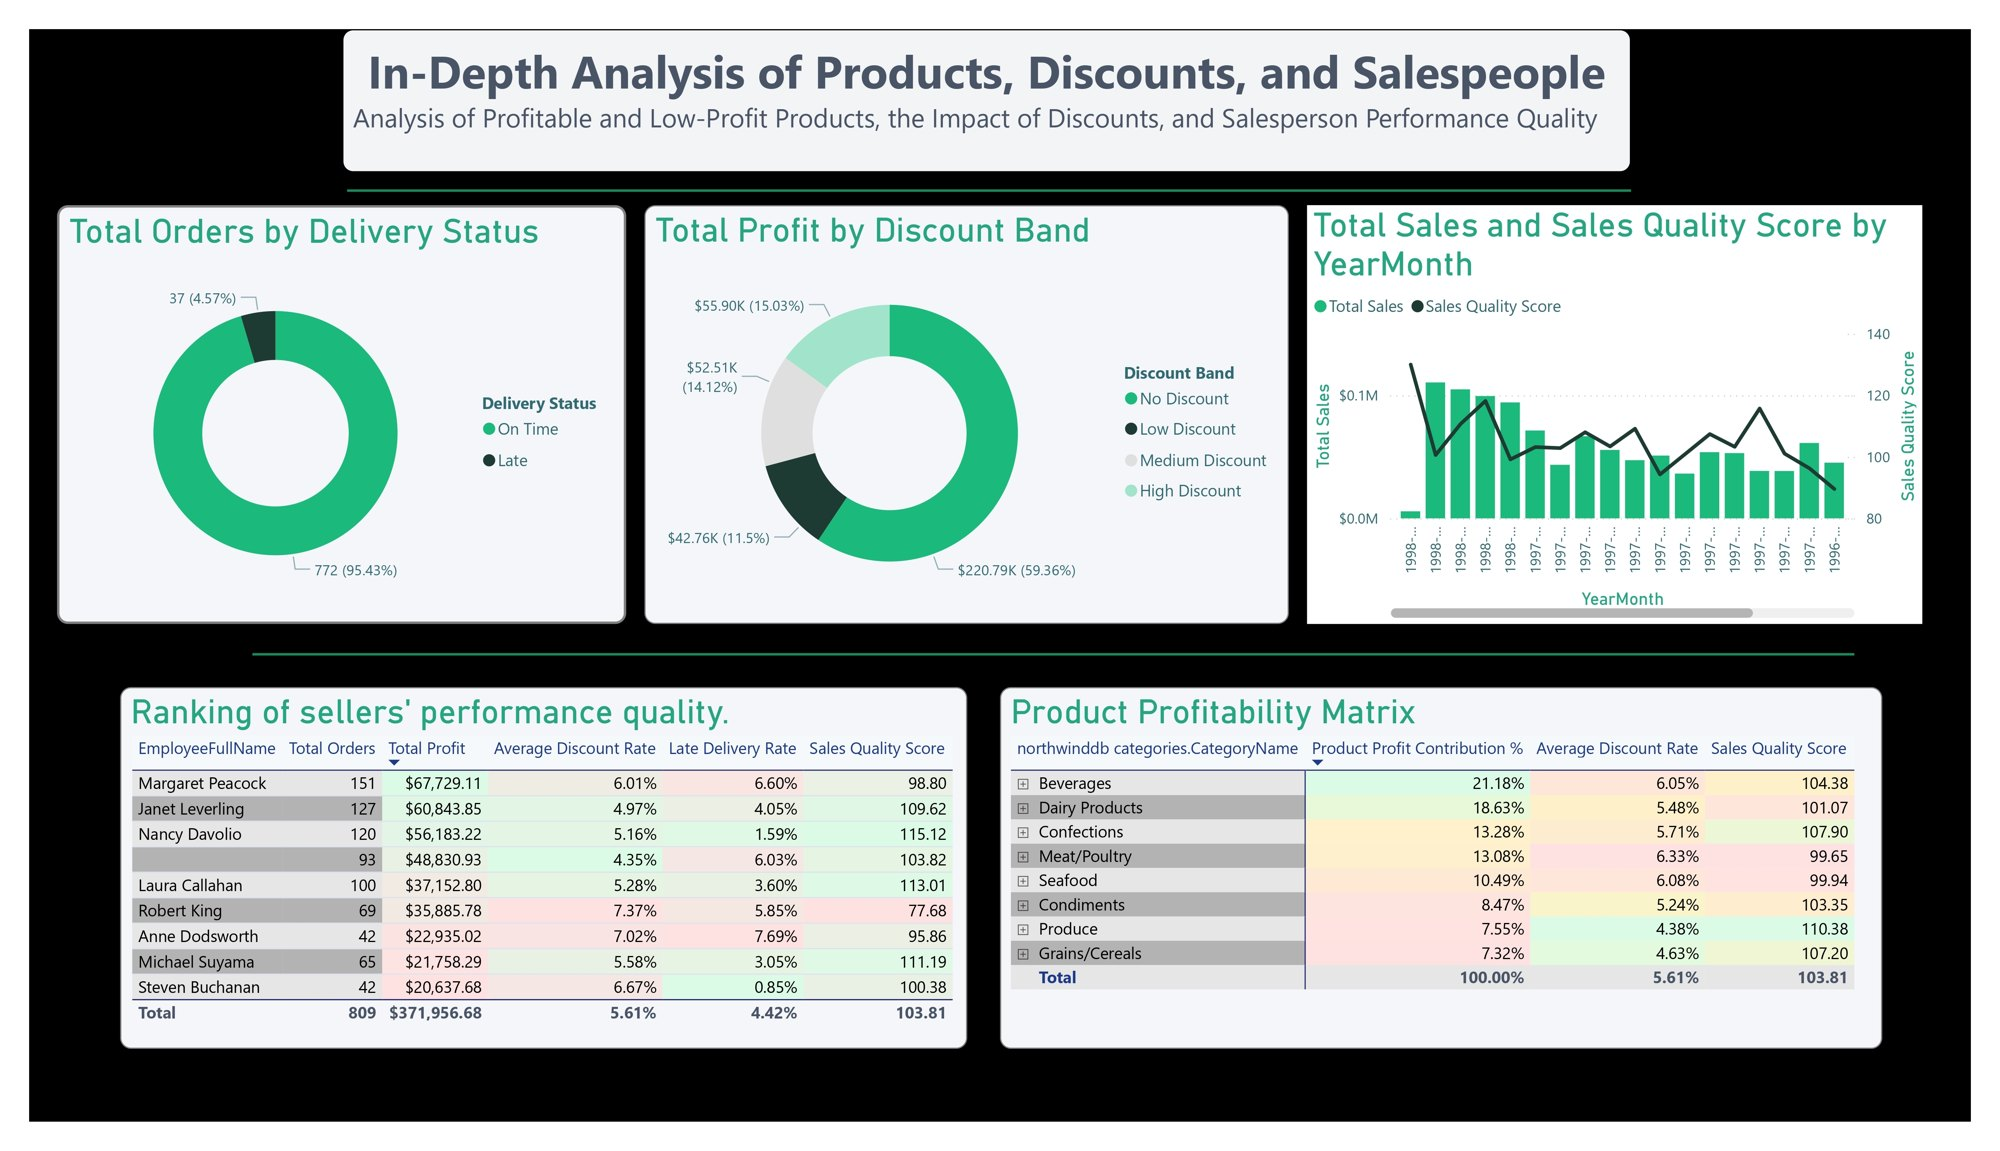

This screenshot's page, from the dashboard's own definition file:
{"tool":"powerbi","page":{"name":"Product & Employee Deep Dive","canvas":[1600,900],"ordinal":2},"visuals":[{"type":"textbox","box":[258,0,1062,118],"z":0},{"type":"pivotTable","title":"Product Profitability Matrix","fields":{"Rows":["DimProduct.northwinddb categories.CategoryName","DimProduct.ProductName"],"Values":["_Measures.Product Profit Contribution %","_Measures.Average Discount Rate","_Measures.Sales Quality Score"]},"box":[800,541.7,726.7,298.3],"z":1000},{"type":"tableEx","title":"Ranking of sellers'' performance quality.","fields":{"Values":["DimEmployee.EmployeeFullName","_Measures.Total Orders","_Measures.Total Profit","_Measures.Average Discount Rate","_Measures.Late Delivery Rate","_Measures.Sales Quality Score"]},"box":[75,541.7,698.3,298.3],"z":2000},{"type":"donutChart","fields":{"Category":["FactSales.Delivery Status"],"Y":["_Measures.Total Orders"]},"box":[23.3,145,468.3,345],"z":3000},{"type":"shape","box":[261.7,58.3,1058.3,150],"z":5000},{"type":"donutChart","fields":{"Category":["FactSales.Discount Band"],"Y":["_Measures.Total Profit"]},"box":[506.7,145,531.7,345],"z":6000},{"type":"shape","box":[184.4,440,1320,150],"z":7000},{"type":"lineClusteredColumnComboChart","fields":{"Category":["DimDate.YearMonth"],"Y2":["_Measures.Sales Quality Score"],"Y":["_Measures.Total Sales"]},"box":[1053.3,145,506.7,345],"z":8000}]}

Visuals, with their boxes in screenshot pixels (x1, y1, x2, y2), scaled from the page's 1600x900 canvas onto the 2000x1151 screenshot:
textbox: BBox(322, 0, 1650, 151)
"Product Profitability Matrix" pivotTable: BBox(1000, 693, 1908, 1074)
"Ranking of sellers'' performance quality." tableEx: BBox(94, 693, 967, 1074)
donutChart - FactSales.Delivery Status x _Measures.Total Orders: BBox(29, 185, 614, 627)
shape: BBox(327, 75, 1650, 266)
donutChart - FactSales.Discount Band x _Measures.Total Profit: BBox(633, 185, 1298, 627)
shape: BBox(230, 563, 1880, 755)
lineClusteredColumnComboChart - DimDate.YearMonth x _Measures.Sales Quality Score: BBox(1317, 185, 1950, 627)
